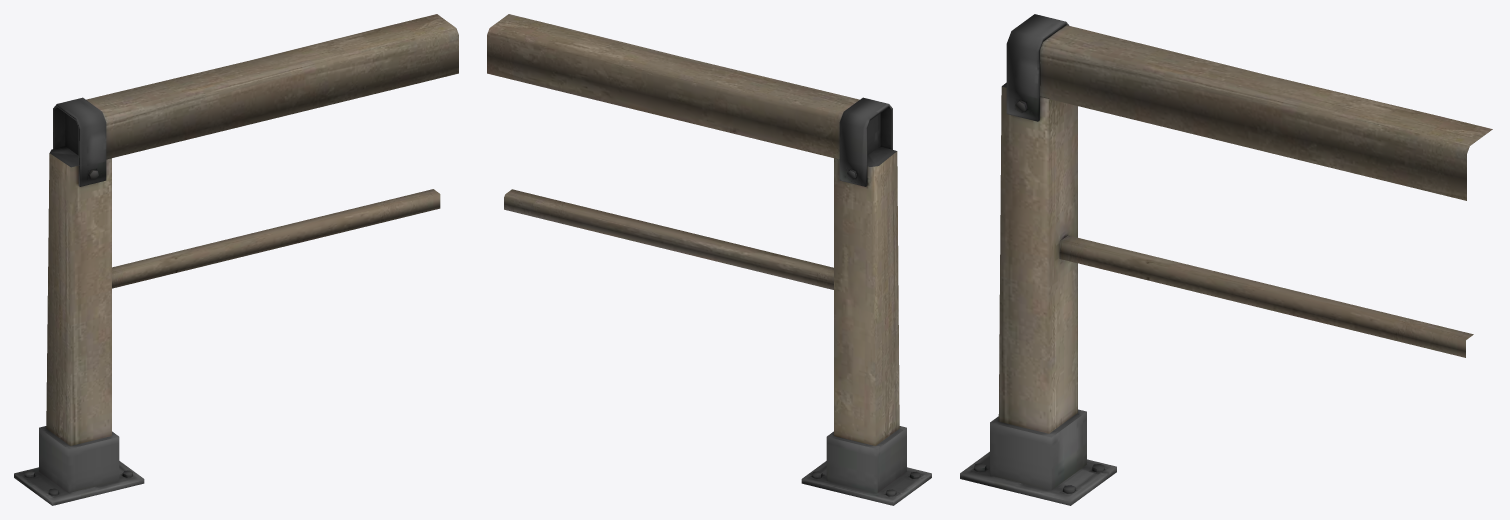
3 views of the same model, side by side, from view 1: azimuth 30°, elevation 25°; view 2: azimuth 150°, elevation 25°; view 3: azimuth 330°, elevation 25° (orthographic). The views are drawn at different scales.
Visible parts, largest first — view 1: body0_model0_lod0_mesh0; view 2: body0_model0_lod0_mesh0; view 3: body0_model0_lod0_mesh0.
Part boxes in pixels (bbox=[...]): body0_model0_lod0_mesh0: bbox=[14, 14, 458, 505]; body0_model0_lod0_mesh0: bbox=[487, 14, 931, 505]; body0_model0_lod0_mesh0: bbox=[960, 14, 1492, 505].
Bounding box in the file's own units: 71.29 × 61.42 × 11.44.
1 material, 1 textured.
